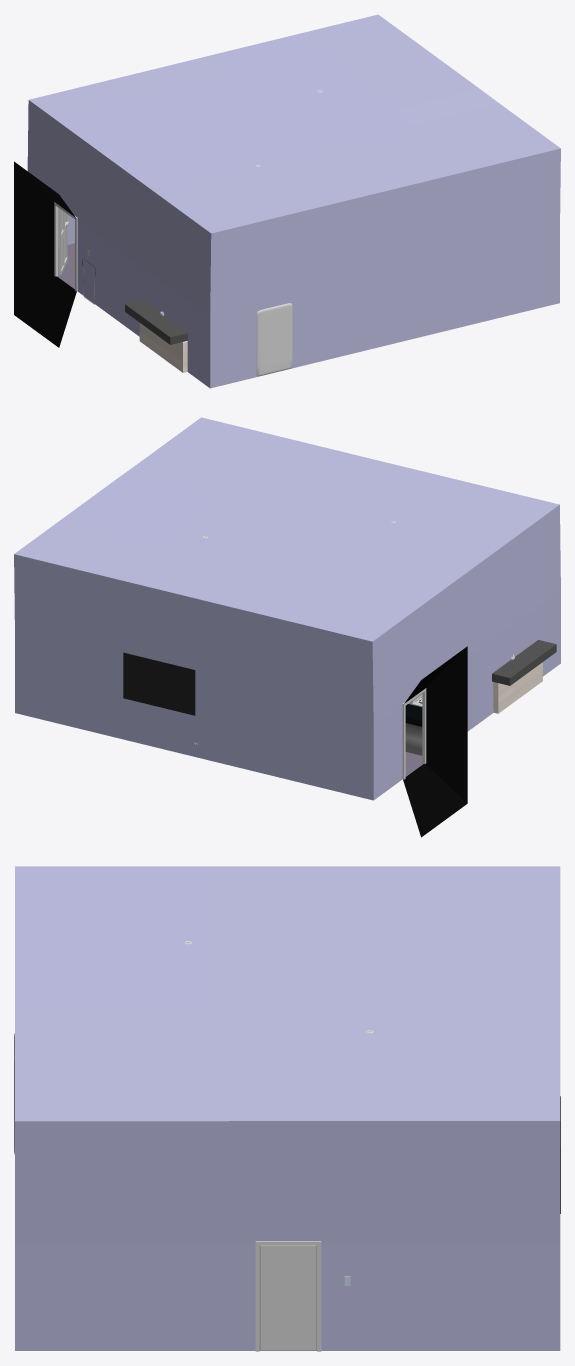
File: novo.glb
3 renders of one model, top to bottom at view 1: azimuth 30°, elevation 25°; view 2: azimuth 150°, elevation 25°; view 3: azimuth 270°, elevation 25°, orthographic. The views are drawn at different scales.
Parts seen in each view (by area): view 1: casa, geladeira.001, Cube.013, Cube.012, porta, Cube; view 2: casa, Plane.002, Cube.013, Cube.012, balcao.001, Cube; view 3: casa, porta.002, Cube.002.
Part boxes in pixels (x1,y1,x2,y2): casa: [14, 14, 560, 388]; geladeira.001: [256, 303, 292, 376]; Cube.013: [125, 300, 187, 344]; Cube.012: [139, 323, 187, 372]; porta: [58, 208, 69, 275]; Cube: [54, 202, 77, 291]; casa: [14, 417, 560, 837]; Plane.002: [123, 652, 195, 715]; Cube.013: [492, 640, 556, 685]; Cube.012: [493, 662, 542, 713]; balcao.001: [405, 704, 422, 755]; Cube: [402, 688, 426, 779]; casa: [15, 866, 560, 1350]; porta.002: [260, 1245, 316, 1350]; Cube.002: [255, 1241, 321, 1351].
Size of the model in its own units: 65.9 by 32.37 by 54.95.
